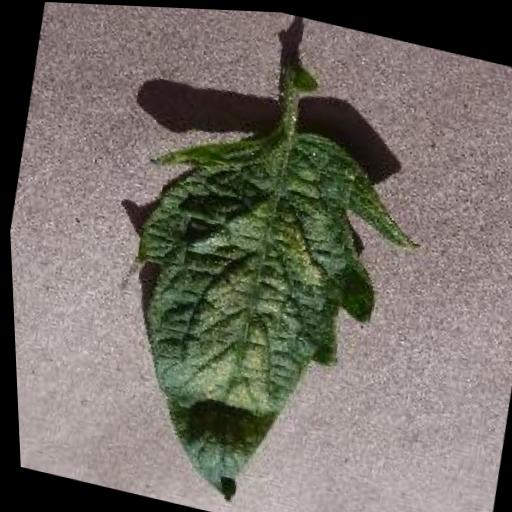Spider Mites: (82, 94, 443, 512)
